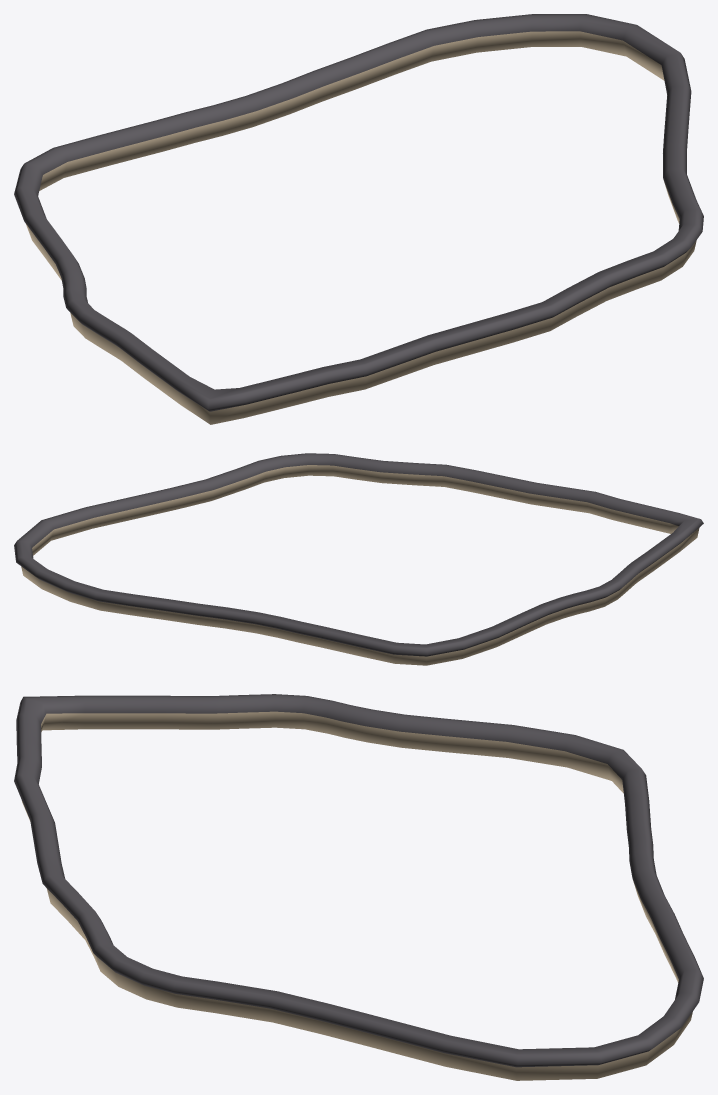
The model's file is SM_SkyIsland_PlainsBase.fbx.
The picture shows the model from 3 angles, top to bottom: view 1: azimuth 30°, elevation 25°; view 2: azimuth 150°, elevation 25°; view 3: azimuth 270°, elevation 25°; orthographic projection. The views are drawn at different scales.
Visible parts, largest first — view 1: BezierCircle.006; view 2: BezierCircle.006; view 3: BezierCircle.006.
Part boxes in pixels (x1=…): BezierCircle.006: x1=14, y1=14, x2=703, y2=424; BezierCircle.006: x1=14, y1=453, x2=703, y2=665; BezierCircle.006: x1=14, y1=694, x2=703, y2=1080.
Bounding box in the file's own units: 923 × 33.3 × 736.
